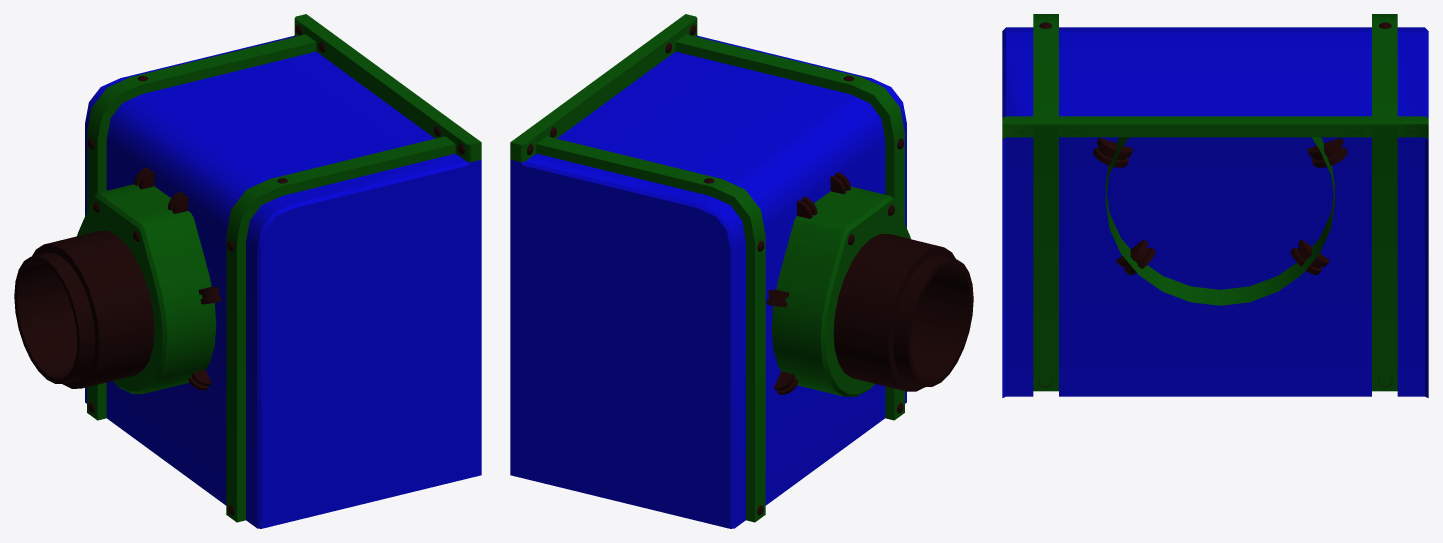
The model's file is SM_SewerTube02.FBX.
3 renders of one model, left to right at view 1: azimuth 30°, elevation 25°; view 2: azimuth 150°, elevation 25°; view 3: azimuth 270°, elevation 25°, orthographic. The views are drawn at different scales.
Visible parts, largest first — view 1: Cylinder022; view 2: Cylinder022; view 3: Cylinder022.
Part boxes in pixels (x1=…): Cylinder022: x1=14, y1=14, x2=481, y2=528; Cylinder022: x1=510, y1=14, x2=973, y2=528; Cylinder022: x1=1002, y1=14, x2=1428, y2=397.
Bounding box in the file's own units: 1318 × 1215 × 1160.
